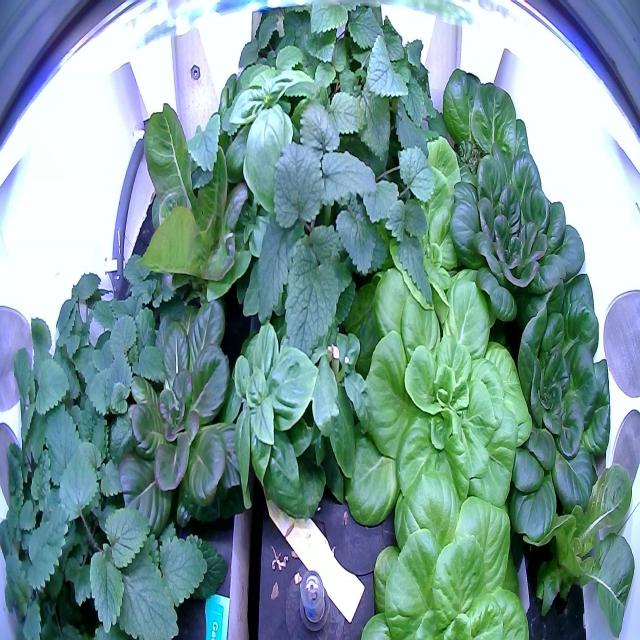Ready: (503, 258, 623, 554), (124, 84, 262, 324), (442, 139, 592, 334), (426, 45, 540, 199)
young: (338, 268, 544, 541), (101, 270, 269, 548), (350, 463, 548, 637), (357, 134, 509, 304), (523, 442, 637, 639)
